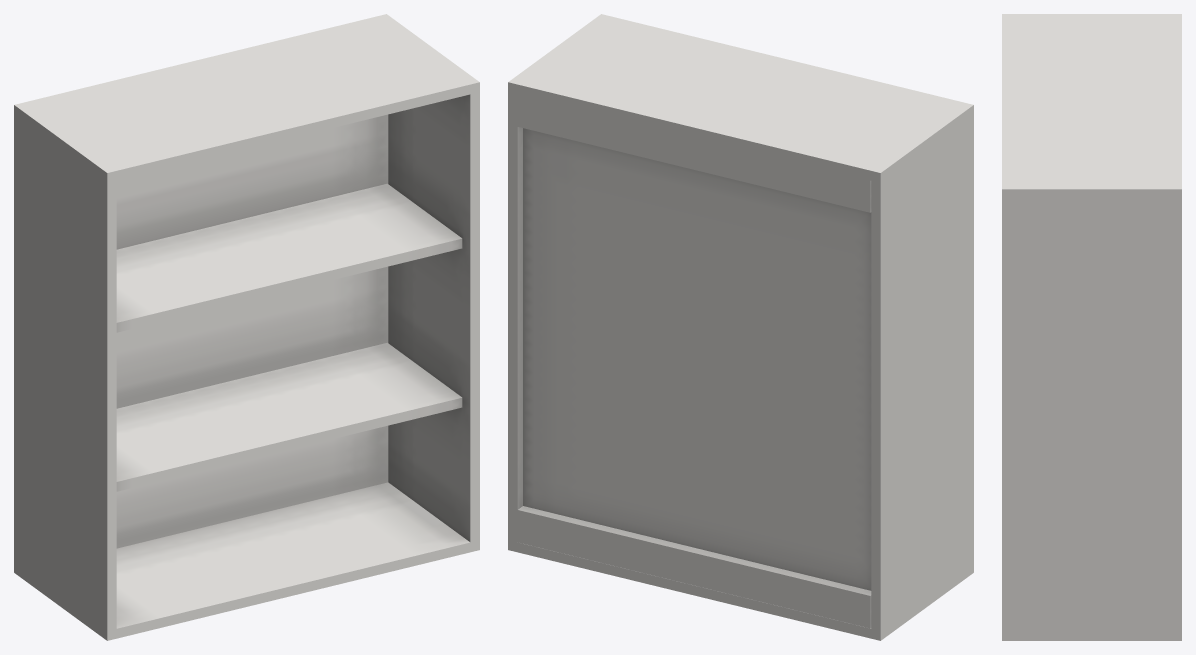
The model's file is wall-2-door-doors-off.glb.
The picture shows the model from 3 angles, left to right: view 1: azimuth 30°, elevation 25°; view 2: azimuth 150°, elevation 25°; view 3: azimuth 270°, elevation 25°; orthographic projection. The views are drawn at different scales.
Parts seen in each view (by area): view 1: part_0; view 2: part_0; view 3: part_0.
Part boxes in pixels (left/top/right/bottom): part_0: left=14, top=14, right=479, bottom=640; part_0: left=508, top=14, right=973, bottom=640; part_0: left=1002, top=14, right=1181, bottom=640.
Bounding box in the file's own units: 0.762 × 0.9144 × 0.3302.
1 material, 1 textured.
